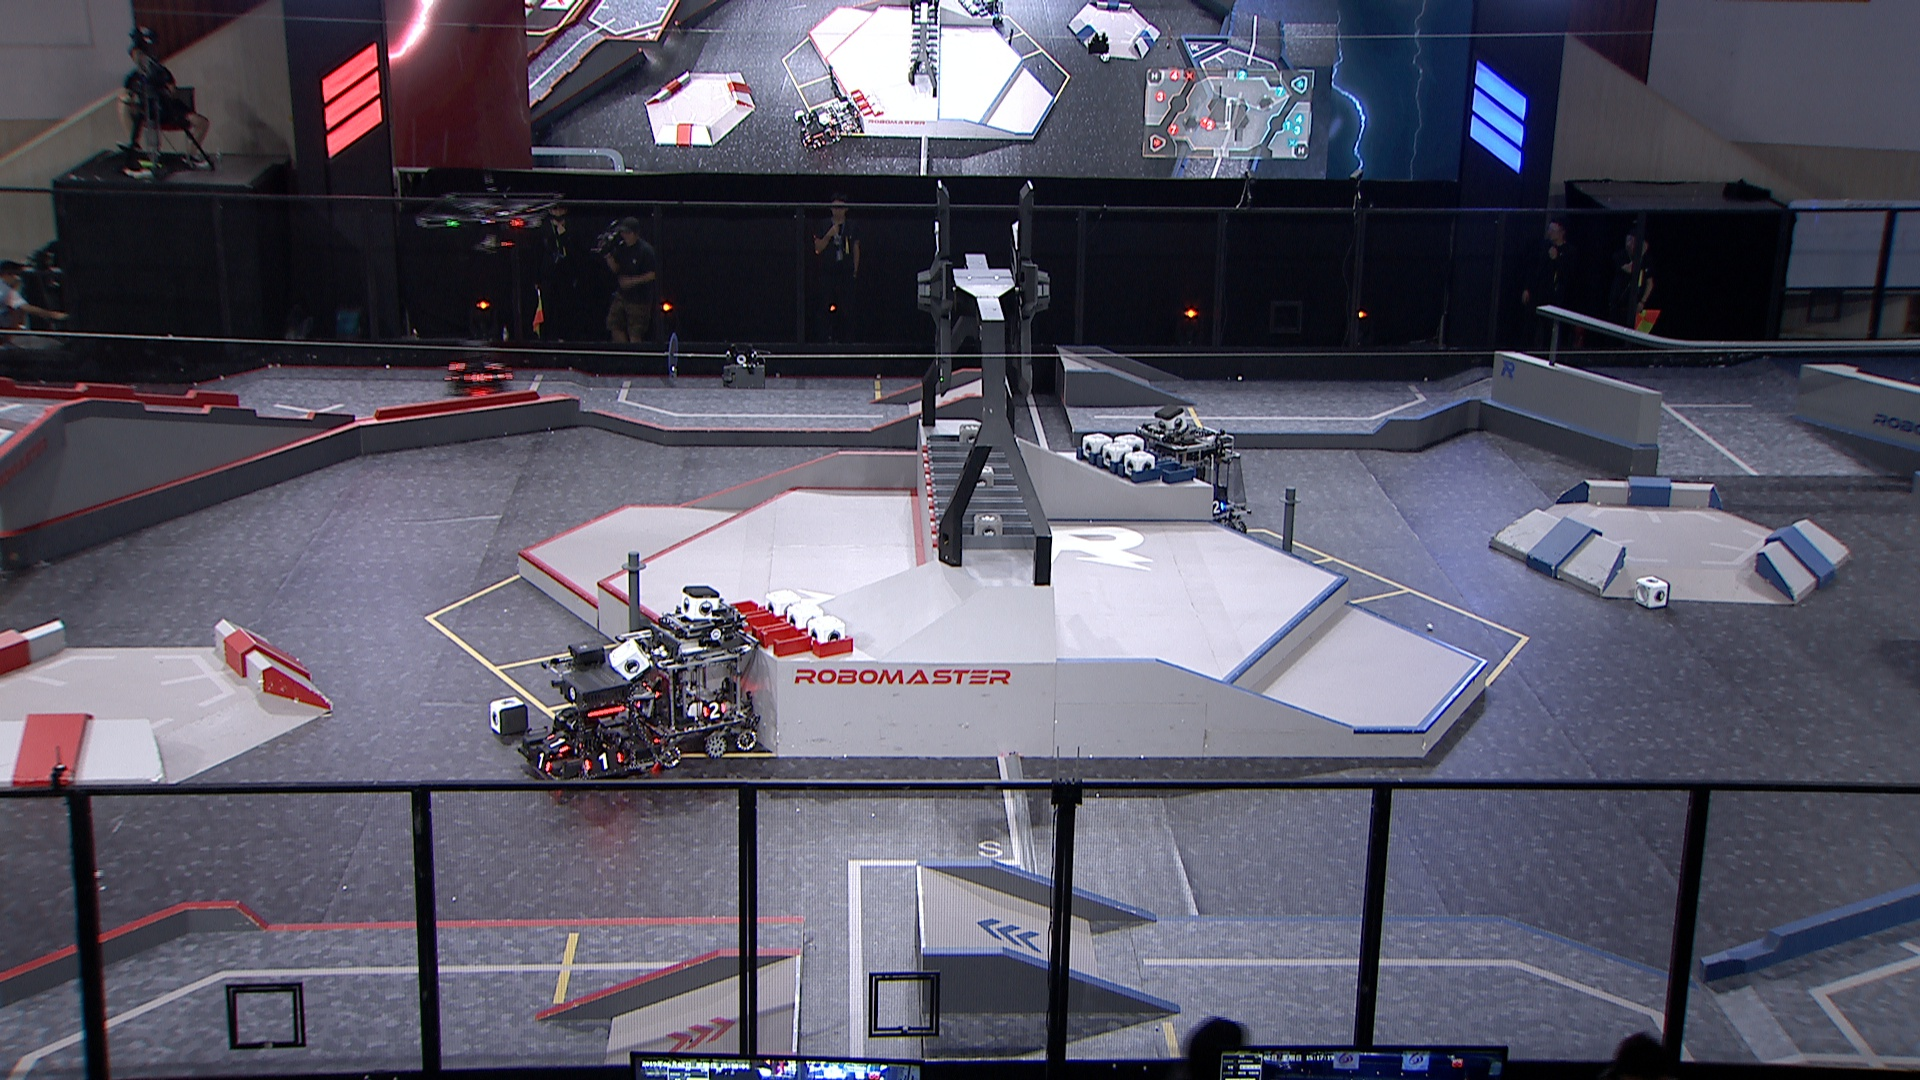armor: (582, 752, 626, 773), (700, 699, 728, 721), (543, 733, 571, 756), (529, 750, 553, 773), (465, 371, 491, 385), (1211, 500, 1228, 516)
car: (617, 603, 764, 769), (513, 655, 655, 796), (1135, 418, 1249, 541), (442, 338, 517, 396)
ignore: (793, 105, 841, 152), (818, 95, 858, 136), (957, 0, 1006, 29)
